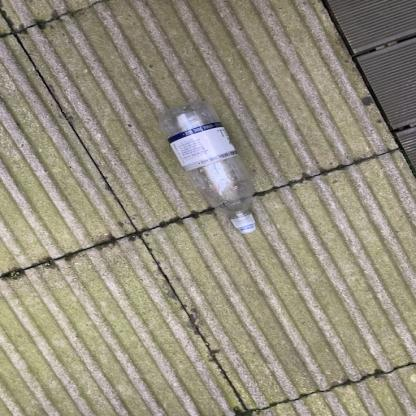trash: (157, 101, 264, 236)
